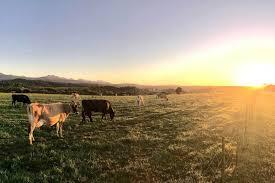cow: (26, 100, 79, 145), (82, 100, 115, 124), (11, 94, 31, 108)
